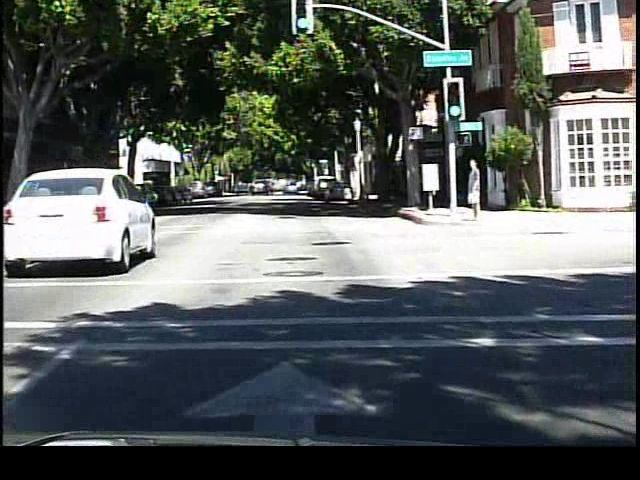person: (463, 157, 486, 221)
